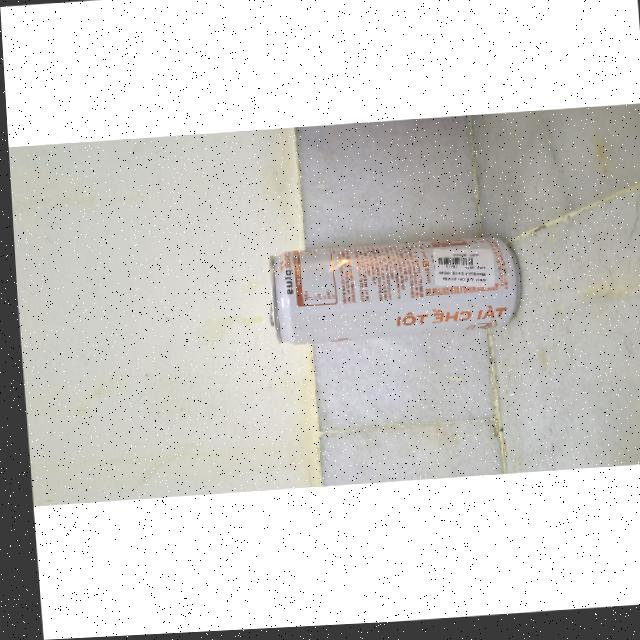Coca Cola Plus: (244, 236, 531, 356)
